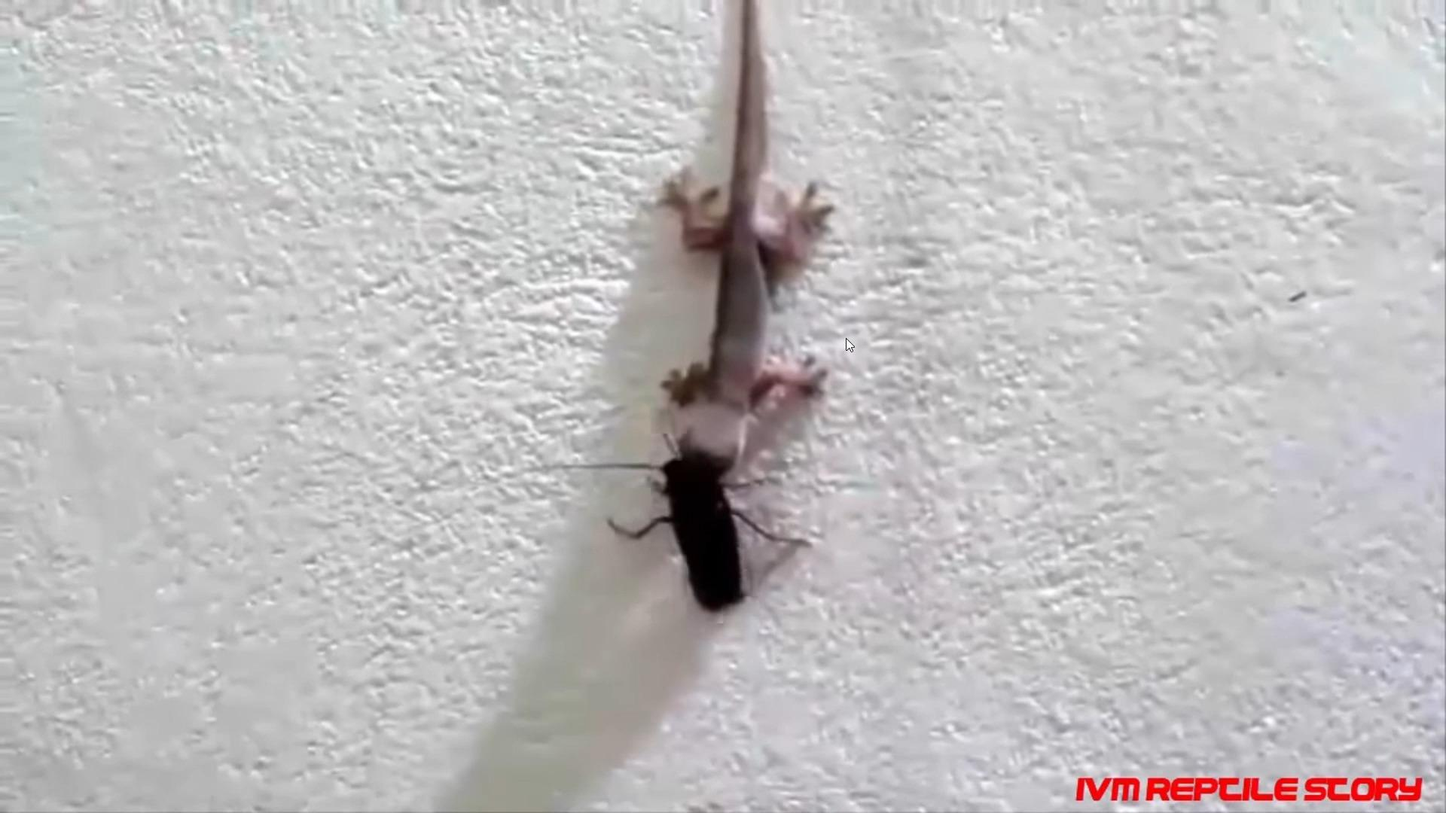cockroach: (631, 453, 769, 614)
lizard: (633, 81, 847, 480)
